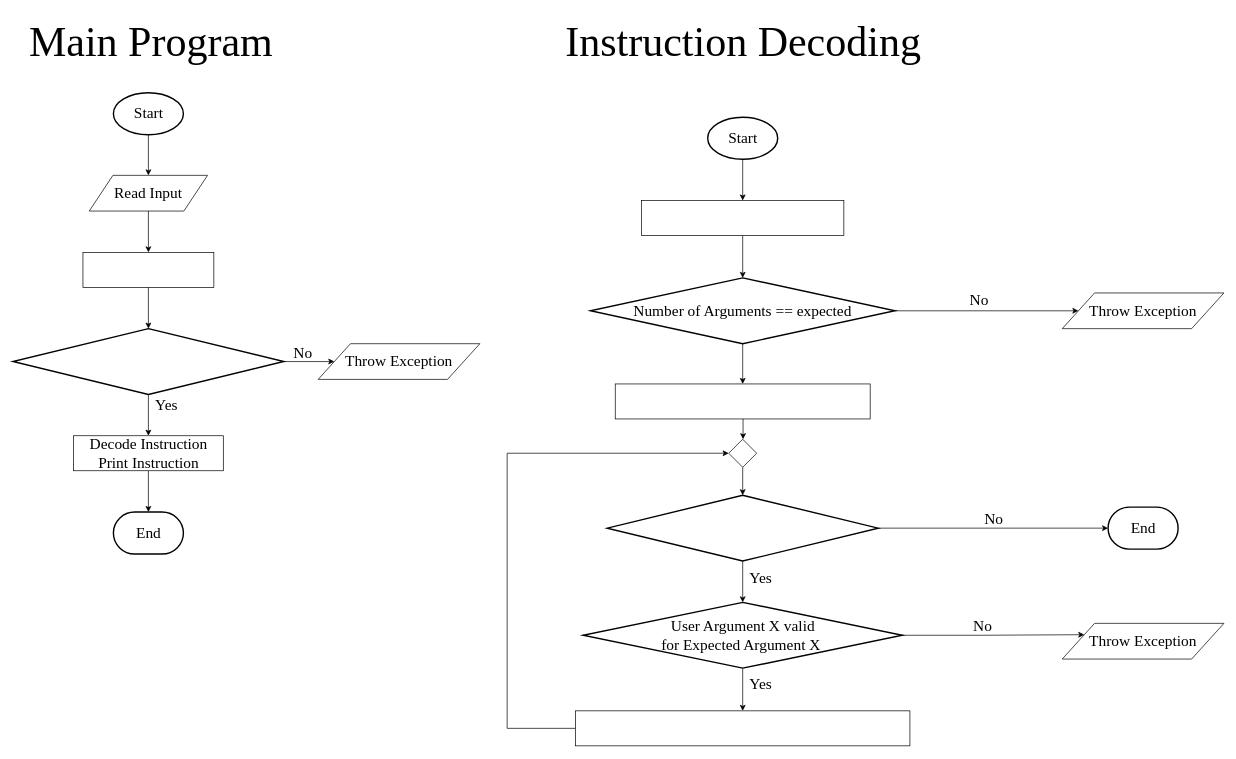
Some shapes in this 1236 by 759 pixel diagram are drawn without their labels. The box of each missing label's shape, as (x1, y1, x2, y2) in pixels:
DecodedInstruction += expectedArgument.convertToBin(user argument X): (575, 710, 910, 746)
DecodedInstruction = InstructionCode: (615, 383, 870, 419)
Instruction in stored list?: (12, 328, 284, 395)
More Arguments to Validate?: (606, 494, 878, 561)
Parse Instruction Parse Arguments: (82, 252, 214, 287)
Parse number of arguments Parse Arguments: (641, 200, 844, 236)
